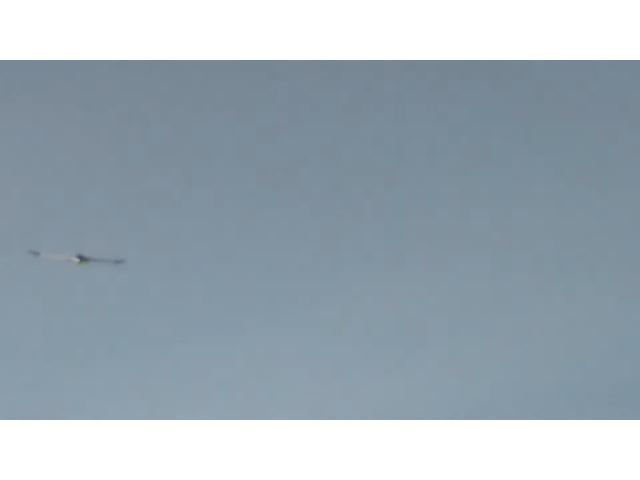Anti-Drone: (30, 250, 126, 266)
